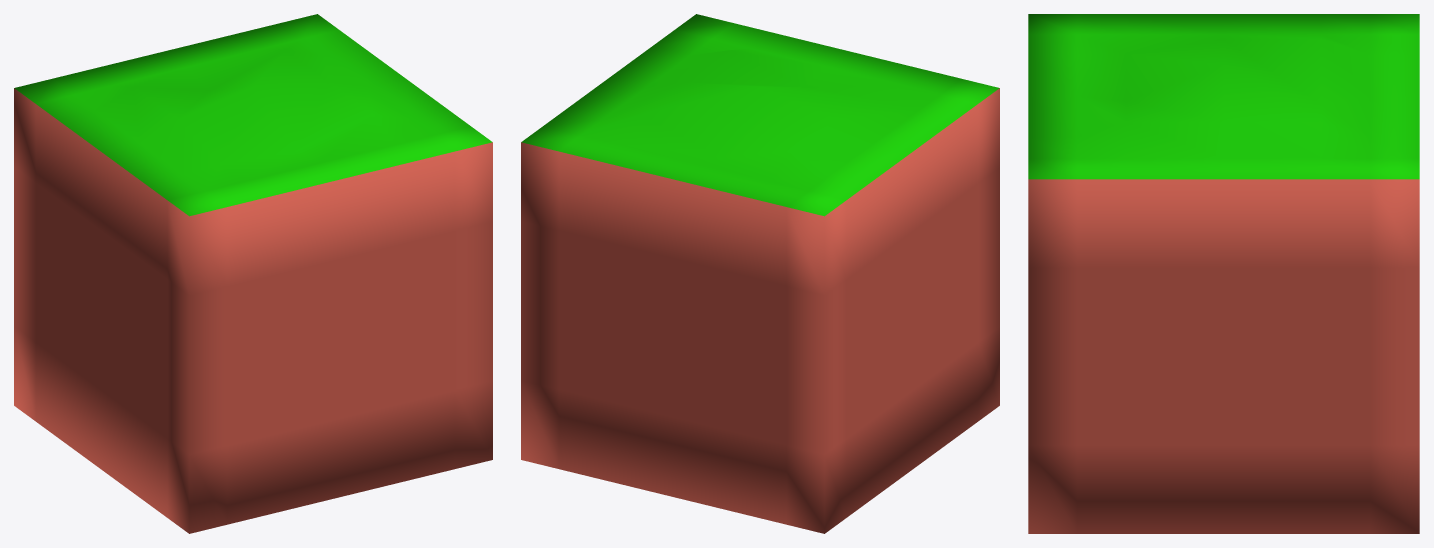
File: Grassblock1.fbx
3 views of the same model, side by side, from view 1: azimuth 30°, elevation 25°; view 2: azimuth 150°, elevation 25°; view 3: azimuth 270°, elevation 25° (orthographic). The views are drawn at different scales.
Visible parts, largest first — view 1: Grassblock1; view 2: Grassblock1; view 3: Grassblock1.
Boxes of the visible parts, bbox=[...] form: Grassblock1: bbox=[14, 14, 492, 533]; Grassblock1: bbox=[521, 14, 999, 533]; Grassblock1: bbox=[1028, 14, 1419, 533].
Size of the model in its own units: 200 by 218 by 200.
